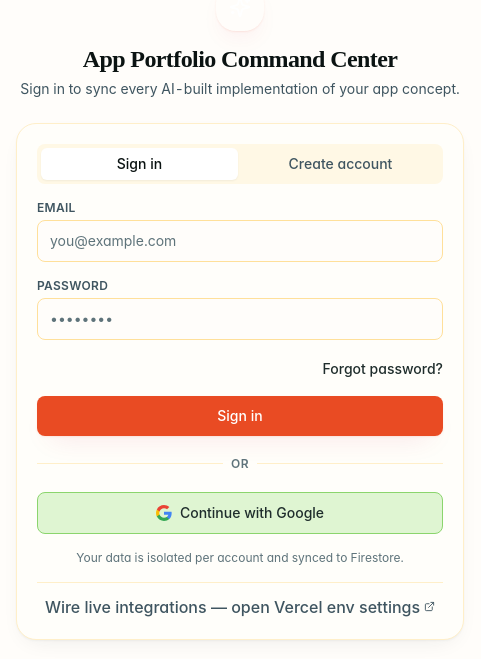
Test: AuthGate — forgot password flow › toggles to the Reset Password view, hiding the sign-in form
Click the button "Forgot password?" at (383, 368), box [323, 358, 443, 378]
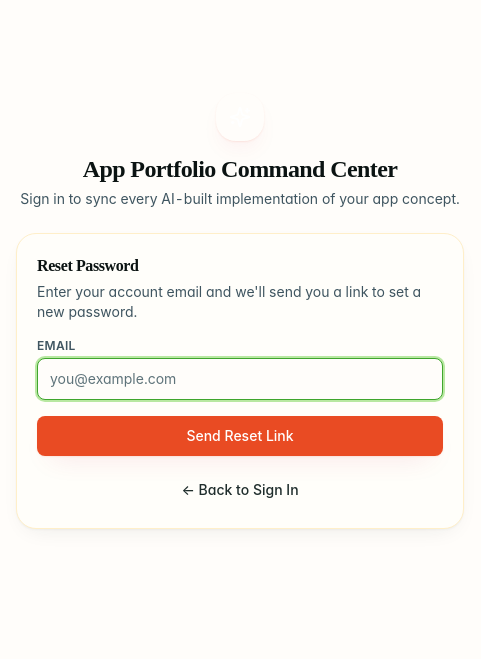
Expected: the heading "Reset Password" is shown, [37, 257, 138, 274]
Expected: the button "Send Reset Link" is shown, [37, 416, 443, 456]
Expected: the button "← Back to Sign In" is shown, [37, 472, 443, 508]
